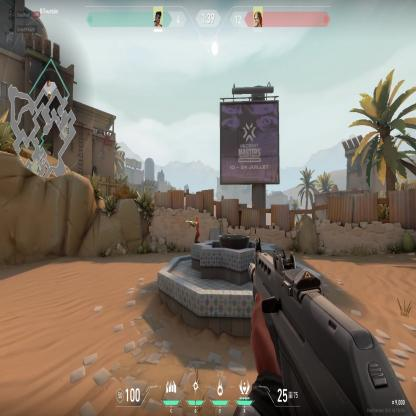enemy: (189, 214, 202, 244)
